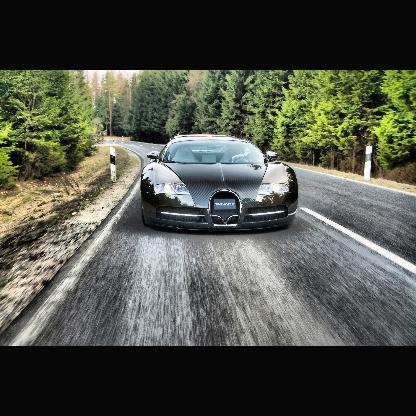Bugatti Veyron 16-4 Coupe 2009: (142, 135, 298, 233)
